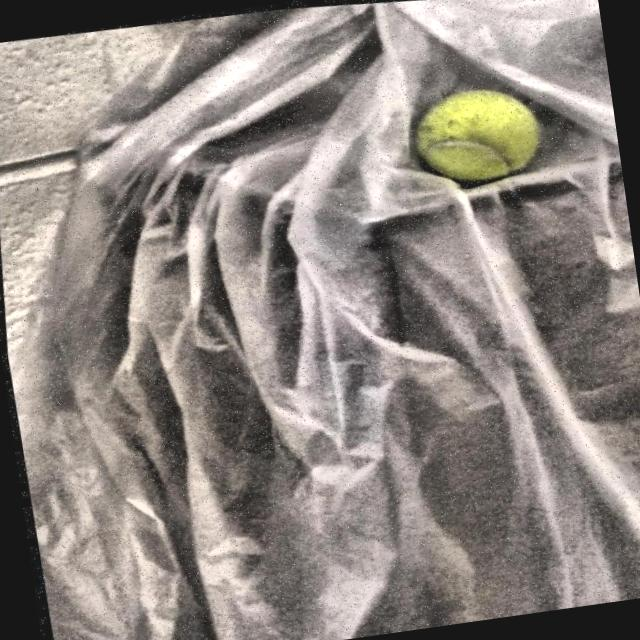Tennis Ball: (395, 68, 560, 200)
